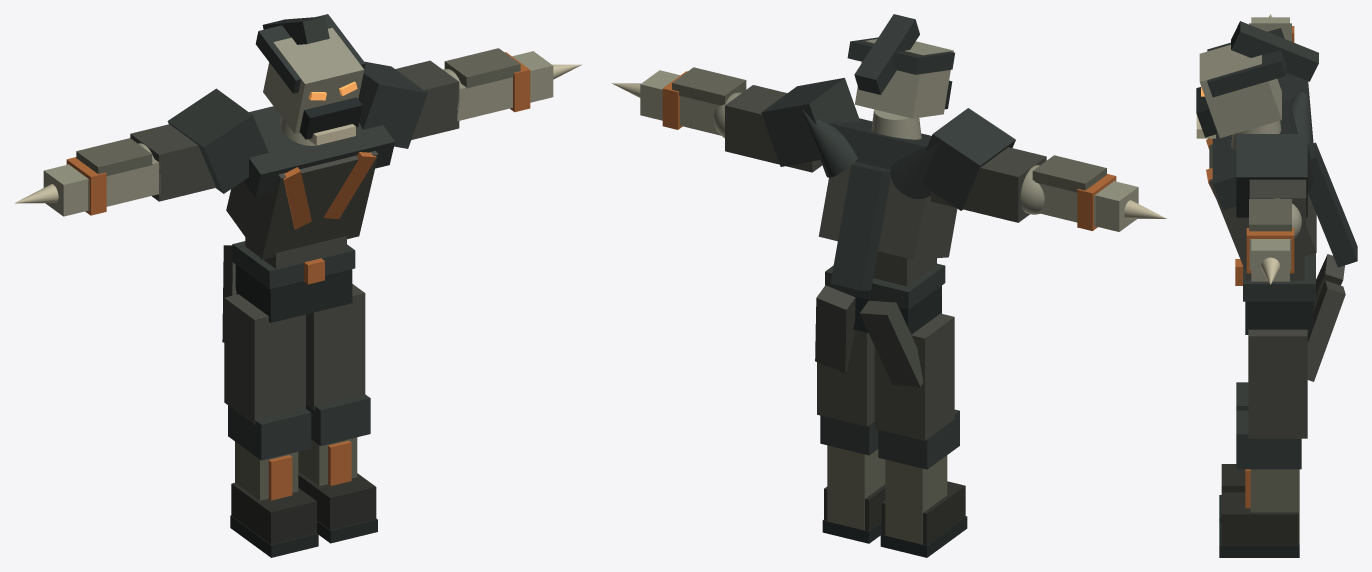
File: FSA_ENEMY_B001_Pursuer.glb
The picture shows the model from 3 angles, left to right: view 1: azimuth 30°, elevation 25°; view 2: azimuth 150°, elevation 25°; view 3: azimuth 270°, elevation 25°; orthographic projection. The views are drawn at different scales.
Visible parts, largest first — view 1: ThighR, Chest, ThighL, Skull, ShoulderPadR, ShoulderYoke, ShoulderPadL, Pelvis, UpperArmR, BootR, KneeR, BootL (+24 smaller); view 2: ThighR, Chest, SpinePlate, ShoulderPadR, ShoulderPadL, ShinR, ThighL, UpperArmR, ShinL, Skull, UpperArmL, CoatTailR (+25 smaller); view 3: ThighL, Skull, ShoulderPadL, BootL, SpinePlate, KneeL, Crest, ShinL, ShoulderYoke, Pelvis, CoatTailL, Belt (+21 smaller).
Boxes of the visible parts, box(x1,y1,x2,y2) form: ThighR: box(224, 294, 305, 424); Chest: box(226, 151, 378, 259); ThighL: box(306, 284, 365, 409); Skull: box(263, 27, 364, 133); ShoulderPadR: box(167, 88, 268, 193); ShoulderYoke: box(243, 106, 394, 197); ShoulderPadL: box(358, 61, 427, 148); Pelvis: box(235, 265, 352, 322); UpperArmR: box(130, 124, 215, 201); BootR: box(231, 482, 316, 544); KneeR: box(228, 405, 311, 460); BootL: box(298, 471, 376, 529); ThighR: box(874, 313, 954, 440); Chest: box(818, 161, 957, 259); SpinePlate: box(830, 164, 890, 290); ShoulderPadR: box(921, 108, 1015, 210); ShoulderPadL: box(761, 77, 860, 166); ShinR: box(885, 455, 947, 544); ThighL: box(817, 330, 874, 426); UpperArmR: box(931, 147, 1046, 222); ShinL: box(827, 445, 885, 530); Skull: box(855, 39, 953, 118); UpperArmL: box(725, 85, 822, 172); CoatTailR: box(859, 300, 923, 386); ThighL: box(1248, 329, 1307, 438); Skull: box(1199, 44, 1281, 138); ShoulderPadL: box(1236, 134, 1307, 217); BootL: box(1221, 492, 1298, 545); SpinePlate: box(1308, 142, 1357, 267); KneeL: box(1236, 410, 1301, 469); Crest: box(1231, 21, 1318, 81); ShinL: box(1250, 469, 1299, 543); ShoulderYoke: box(1212, 100, 1297, 210); Pelvis: box(1245, 301, 1313, 334); CoatTailL: box(1307, 280, 1345, 381); Belt: box(1243, 253, 1315, 301).
Bounding box in the file's own units: 2.16 × 1.88 × 0.5427.
